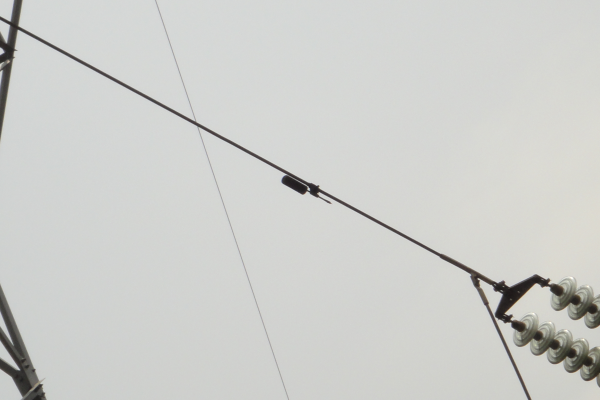damper_defect: (279, 171, 333, 206)
